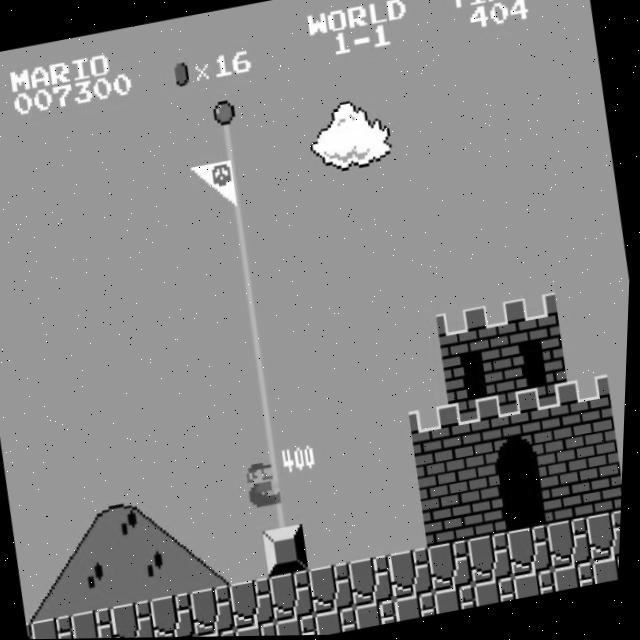1- brick_block: (542, 473, 592, 526)
11- little_mario: (234, 455, 287, 511)
17- undestructible_block: (271, 570, 321, 623), (509, 525, 559, 578), (548, 518, 598, 571), (311, 563, 361, 615), (469, 533, 519, 585), (192, 585, 241, 638), (351, 555, 400, 608), (430, 540, 479, 593), (232, 578, 281, 630), (390, 548, 439, 600), (152, 591, 202, 638), (587, 511, 625, 563), (113, 599, 163, 638), (73, 606, 122, 639), (397, 592, 442, 623), (477, 577, 522, 608), (556, 562, 600, 593), (437, 585, 482, 615), (516, 570, 561, 600), (358, 600, 402, 630), (318, 607, 363, 636), (34, 614, 83, 639), (278, 614, 323, 637), (595, 556, 624, 586), (239, 621, 284, 637), (199, 629, 244, 637), (29, 621, 43, 639)
7- goal_pole: (198, 76, 248, 128), (251, 435, 301, 487), (205, 120, 254, 173), (225, 255, 274, 308), (232, 300, 281, 353), (245, 390, 294, 443), (258, 480, 307, 533), (218, 211, 268, 262), (212, 166, 261, 217), (238, 346, 287, 397)
9- hard_block: (265, 525, 314, 577)
